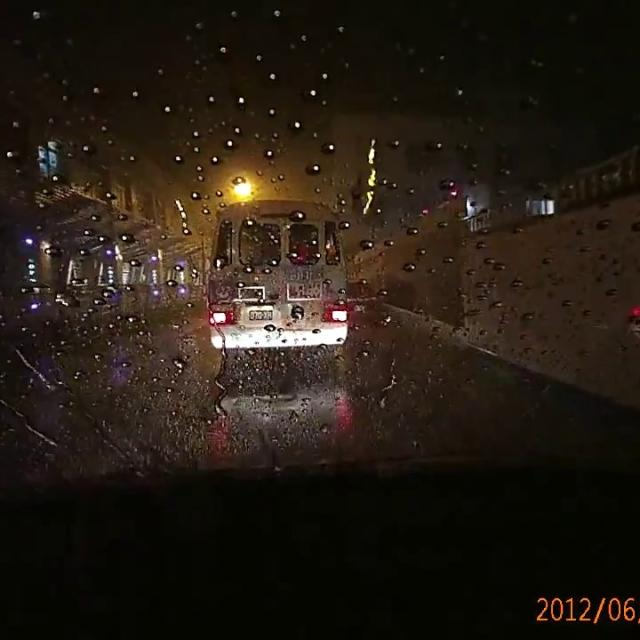Car: (340, 275, 389, 325)
